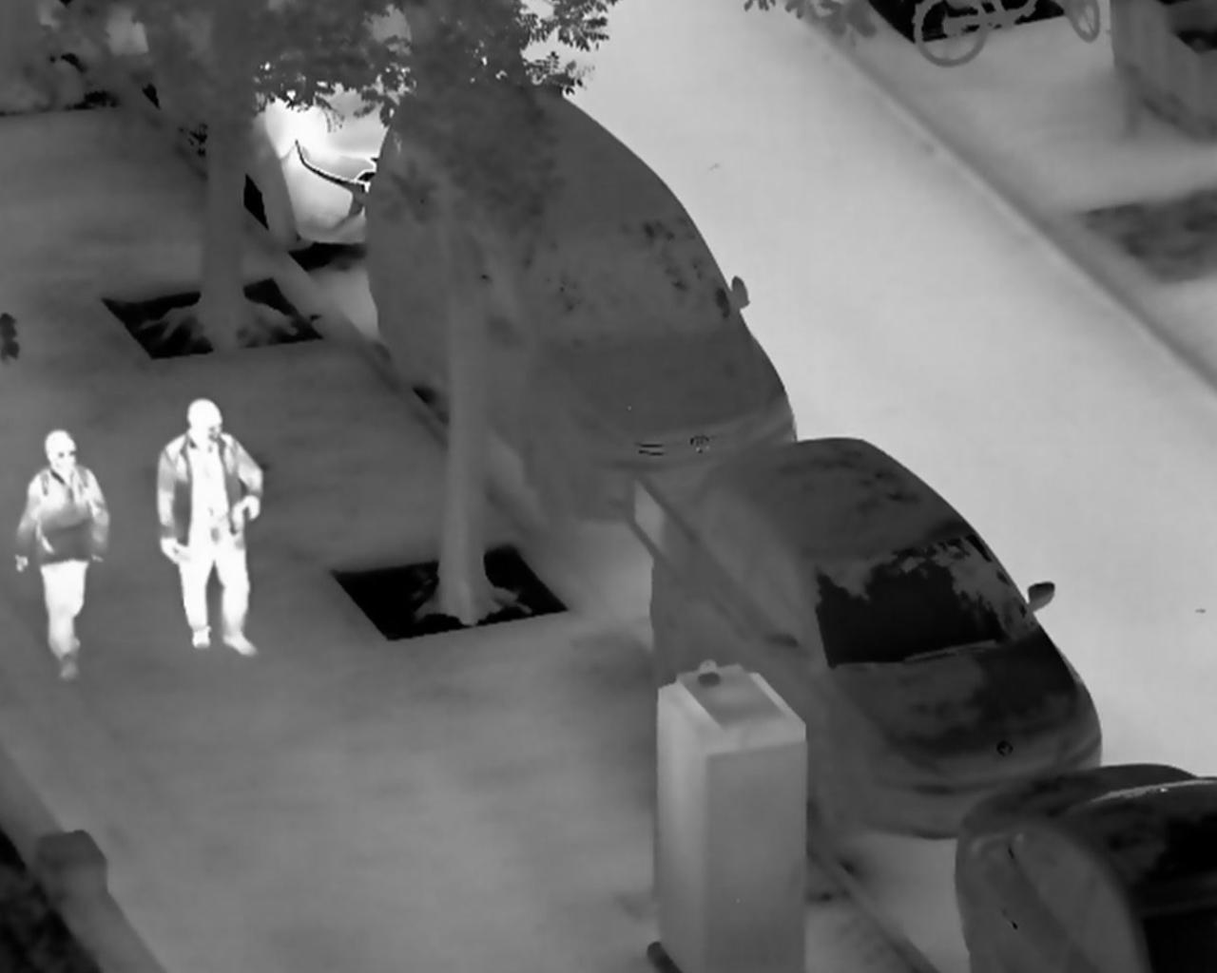person: (154, 398, 263, 664), (14, 427, 111, 683)
